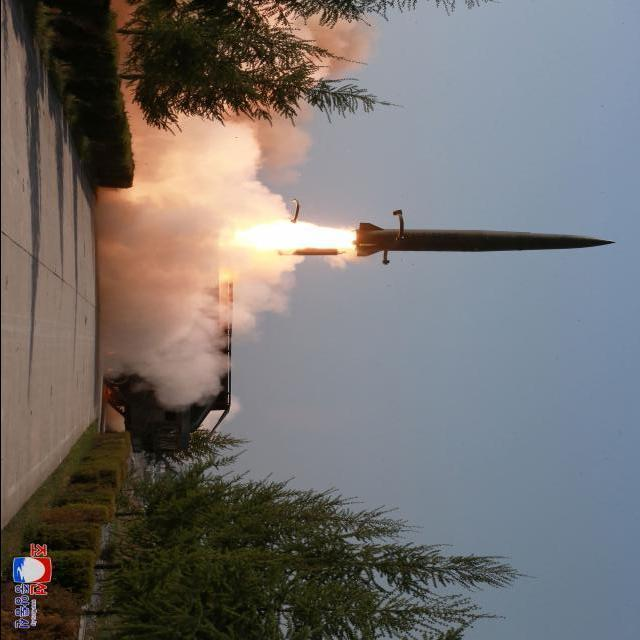missile: (356, 219, 618, 254)
